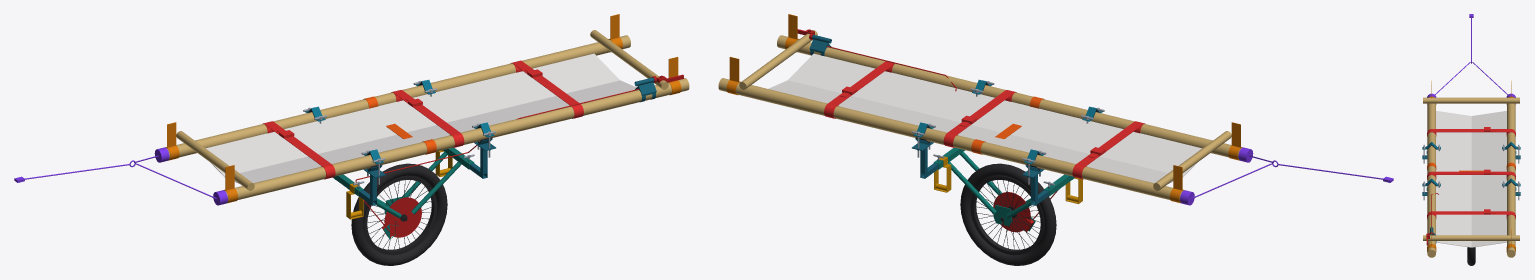
The picture shows the model from 3 angles, left to right: view 1: azimuth 30°, elevation 25°; view 2: azimuth 150°, elevation 25°; view 3: azimuth 270°, elevation 25°; orthographic projection. The views are drawn at different scales.
Visible parts, largest first — view 1: Cloth bed (the family's doli), Bamboo poles and cross sticks (the family's doli), Wheel, Patient straps, Bearer harness pole loops, Fork unit, Disc brake set, Side arms, right, Hold-back strap, Brake lever and cable, Lift handles, Upper jaws (+2 smaller); view 2: Cloth bed (the family's doli), Bamboo poles and cross sticks (the family's doli), Wheel, Patient straps, Fork unit, Bearer harness pole loops, Side arms, left, Hold-back strap, Disc brake set, Lift handles, Upper jaws, T-handle bolts and set screws (+1 smaller); view 3: Cloth bed (the family's doli), Bamboo poles and cross sticks (the family's doli), Patient straps, Hold-back strap, Upper jaws, T-handle bolts and set screws, Bearer harness pole loops, Wheel, Cross strap, Brake lever and cable.
Boxes of the visible parts, x1,y1,x2,y2 form: Cloth bed (the family's doli): (206, 53, 636, 183); Bamboo poles and cross sticks (the family's doli): (166, 30, 689, 202); Wheel: (351, 163, 447, 265); Patient straps: (262, 60, 583, 179); Bearer harness pole loops: (165, 14, 681, 203); Fork unit: (333, 148, 474, 239); Disc brake set: (382, 197, 421, 237); Side arms, right: (359, 138, 495, 205); Hold-back strap: (14, 147, 227, 205); Brake lever and cable: (355, 74, 683, 232); Lift handles: (346, 150, 452, 219); Upper jaws: (305, 79, 494, 164); Cloth bed (the family's doli): (768, 53, 1201, 183); Bamboo poles and cross sticks (the family's doli): (718, 30, 1241, 202); Wheel: (960, 163, 1056, 265); Patient straps: (824, 61, 1145, 179); Fork unit: (933, 148, 1074, 231); Bearer harness pole loops: (726, 14, 1242, 203); Side arms, left: (912, 138, 1048, 205); Hold-back strap: (1180, 147, 1393, 205); Disc brake set: (993, 192, 1033, 232); Lift handles: (934, 156, 1082, 203); Upper jaws: (913, 79, 1102, 164); T-handle bolts and set screws: (912, 80, 1104, 187); Cloth bed (the family's doli): (1436, 111, 1506, 247); Bamboo poles and cross sticks (the family's doli): (1423, 97, 1519, 257); Patient straps: (1427, 127, 1515, 218); Hold-back strap: (1427, 14, 1515, 97); Upper jaws: (1422, 142, 1520, 186); T-handle bolts and set screws: (1423, 144, 1519, 200); Bearer harness pole loops: (1427, 81, 1515, 252); Wheel: (1467, 247, 1475, 265); Cross strap: (1427, 162, 1515, 171); Brake lever and cable: (1426, 193, 1438, 245).
Bounding box in the file's own units: 3.48 × 0.926 × 0.68.
